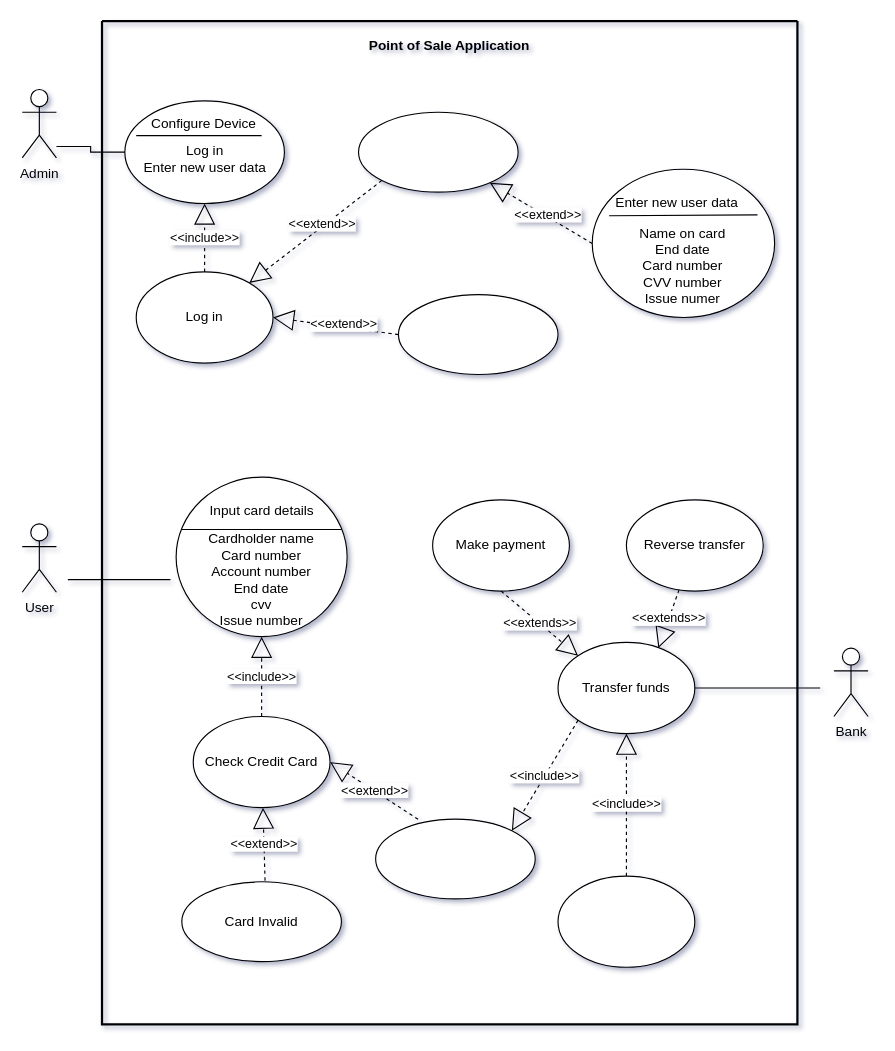
This 895x1051 diagram has some shape labels left out. The shapes that lost their labels are listed below. From the top down, each one's centre as x and y in pixels, then its label:
pixel 437 151: Verify Login
pixel 477 334: Login Error
pixel 454 858: Card Valid
pixel 626 921: Log transaction
